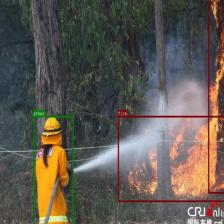fire: (117, 115, 224, 201), (207, 0, 224, 193)
